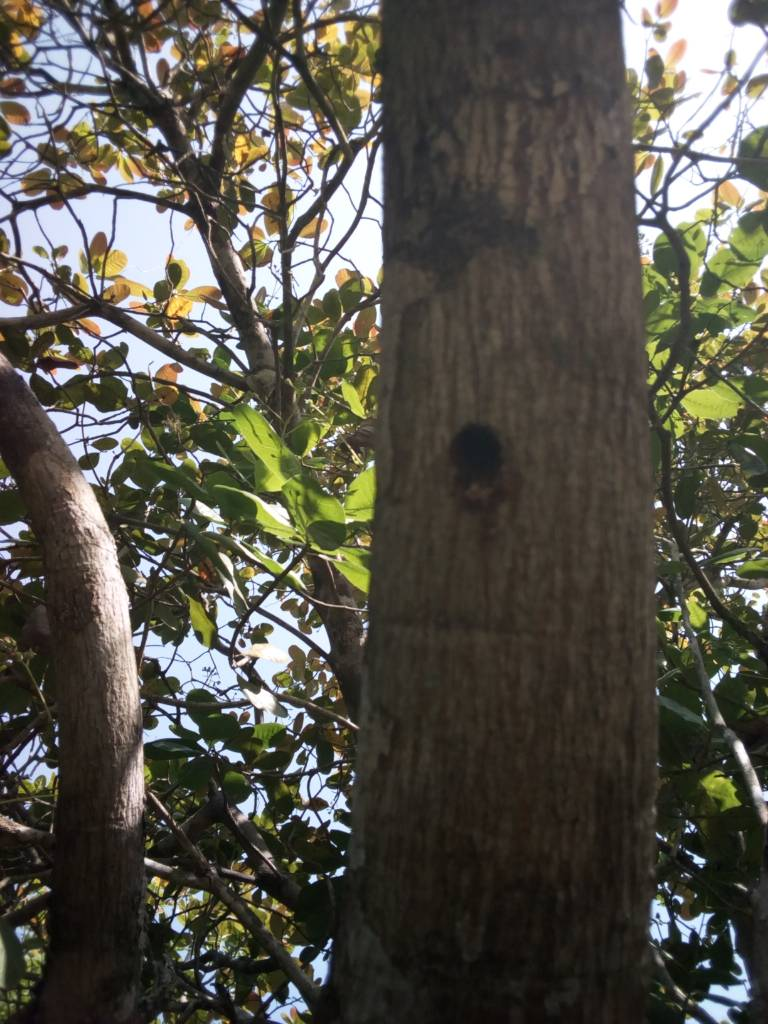Apate terebrans: (410, 407, 525, 518)
